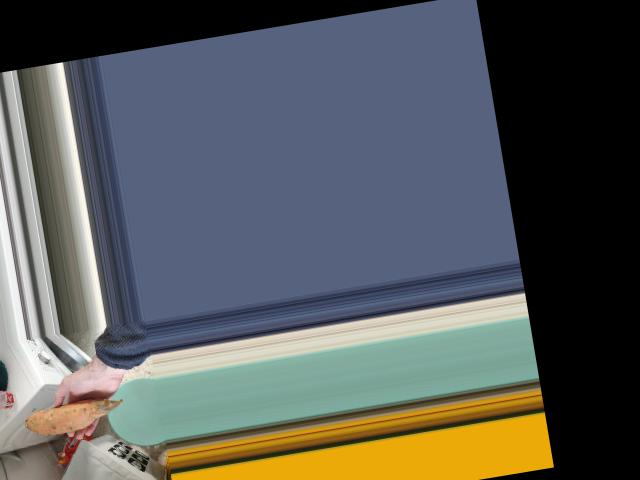sweet_potato: (22, 392, 122, 438)
